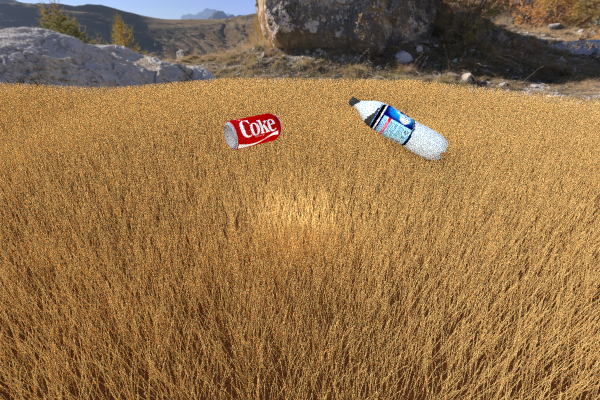Plastic Bottle: (348, 96, 448, 160), (223, 113, 282, 150)
